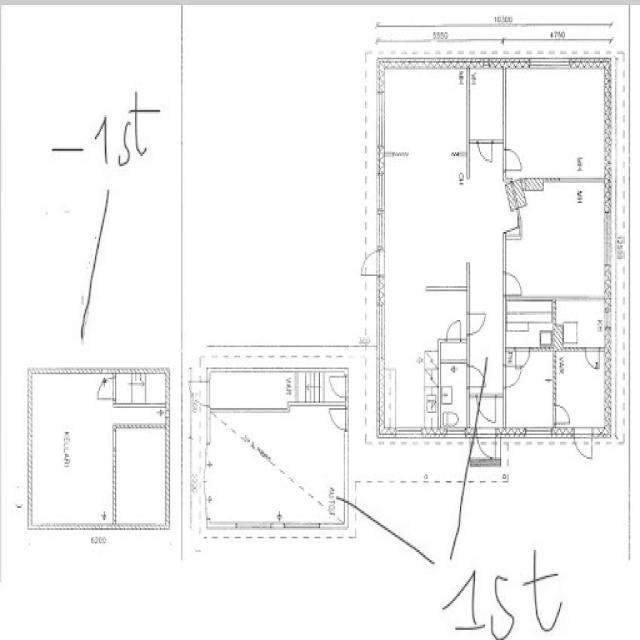door: (476, 394, 501, 425), (572, 428, 594, 461), (502, 269, 525, 298), (476, 430, 497, 461), (502, 145, 525, 173), (466, 308, 488, 337), (94, 375, 116, 404), (502, 363, 525, 390), (361, 248, 382, 277), (327, 372, 348, 400), (328, 404, 348, 432), (476, 137, 495, 166), (444, 317, 464, 344), (190, 380, 210, 407), (466, 363, 485, 391), (552, 402, 572, 428), (512, 346, 532, 370), (584, 346, 601, 371)
window: (373, 170, 388, 238), (548, 173, 600, 190), (374, 88, 388, 151), (526, 56, 573, 74), (600, 207, 613, 272), (283, 518, 321, 532), (394, 427, 424, 442), (524, 425, 552, 441), (209, 518, 239, 532), (444, 427, 467, 441)
zone: (208, 409, 346, 524), (381, 158, 468, 336), (29, 371, 114, 527), (504, 66, 610, 180), (506, 186, 610, 300), (381, 70, 468, 160), (379, 336, 442, 435), (114, 425, 168, 529), (503, 349, 555, 435), (554, 350, 608, 432), (211, 372, 290, 412), (466, 66, 506, 144), (553, 297, 608, 350), (504, 299, 556, 351), (439, 352, 468, 434)
